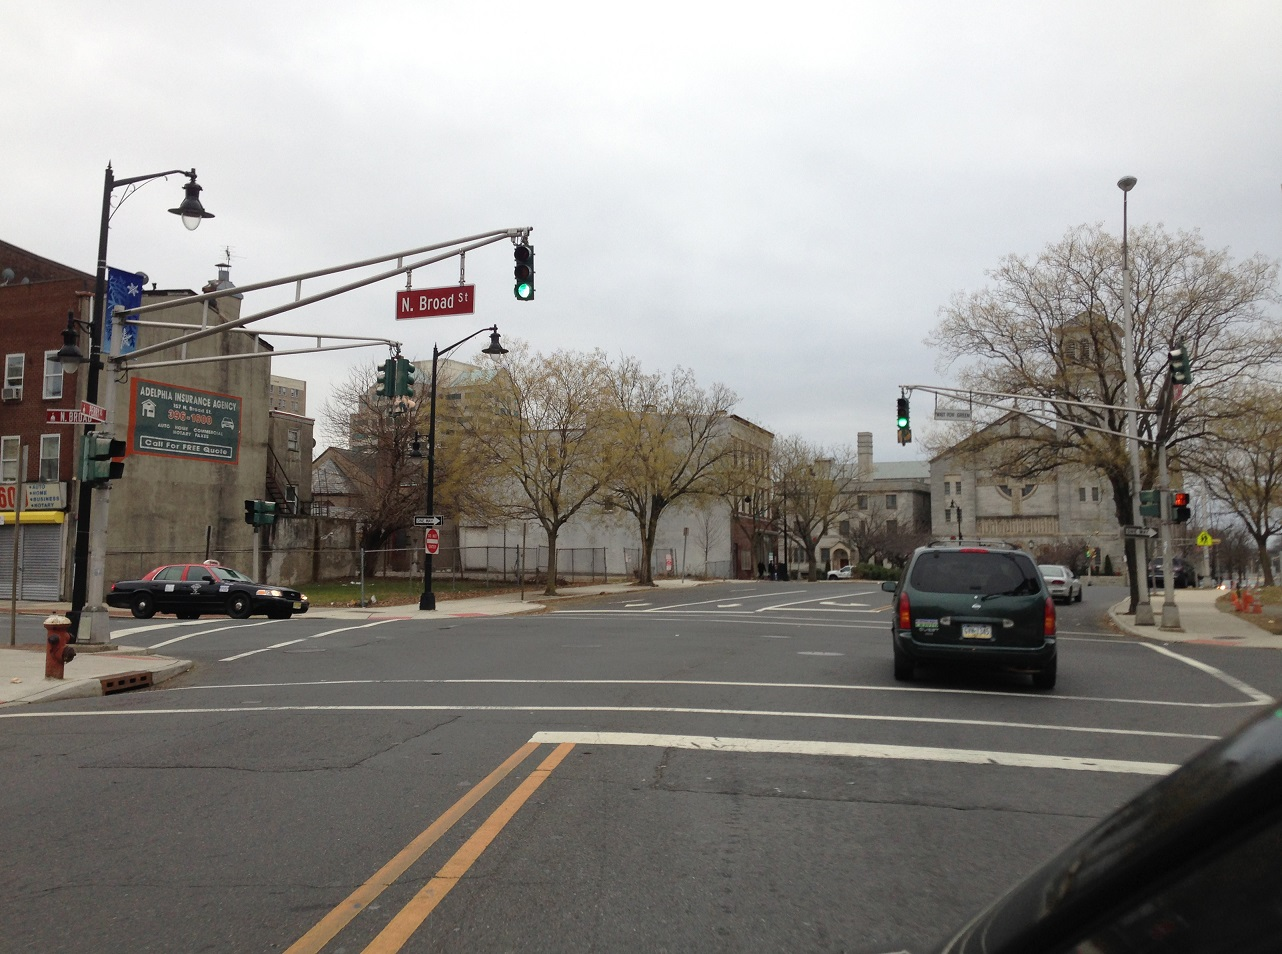traffic_light: (512, 242, 537, 303), (895, 396, 912, 432)
